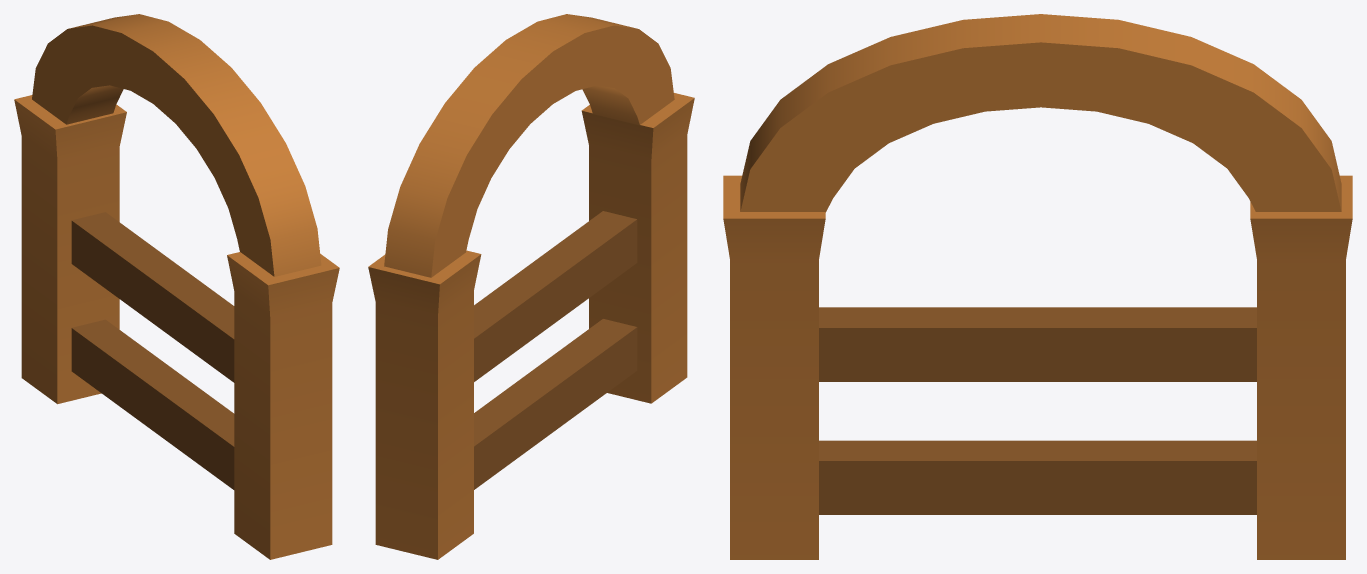
Rendered from door_paddock_zebra.fbx.
3 views of the same model, side by side, from view 1: azimuth 30°, elevation 25°; view 2: azimuth 150°, elevation 25°; view 3: azimuth 270°, elevation 25° (orthographic). The views are drawn at different scales.
Parts seen in each view (by area): view 1: door_paddock_zebra; view 2: door_paddock_zebra; view 3: door_paddock_zebra.
Boxes of the visible parts, bbox=[...] form: door_paddock_zebra: bbox=[14, 14, 339, 559]; door_paddock_zebra: bbox=[368, 14, 694, 559]; door_paddock_zebra: bbox=[723, 14, 1352, 559].
Size of the model in its own units: 88.04 by 487 by 541.
